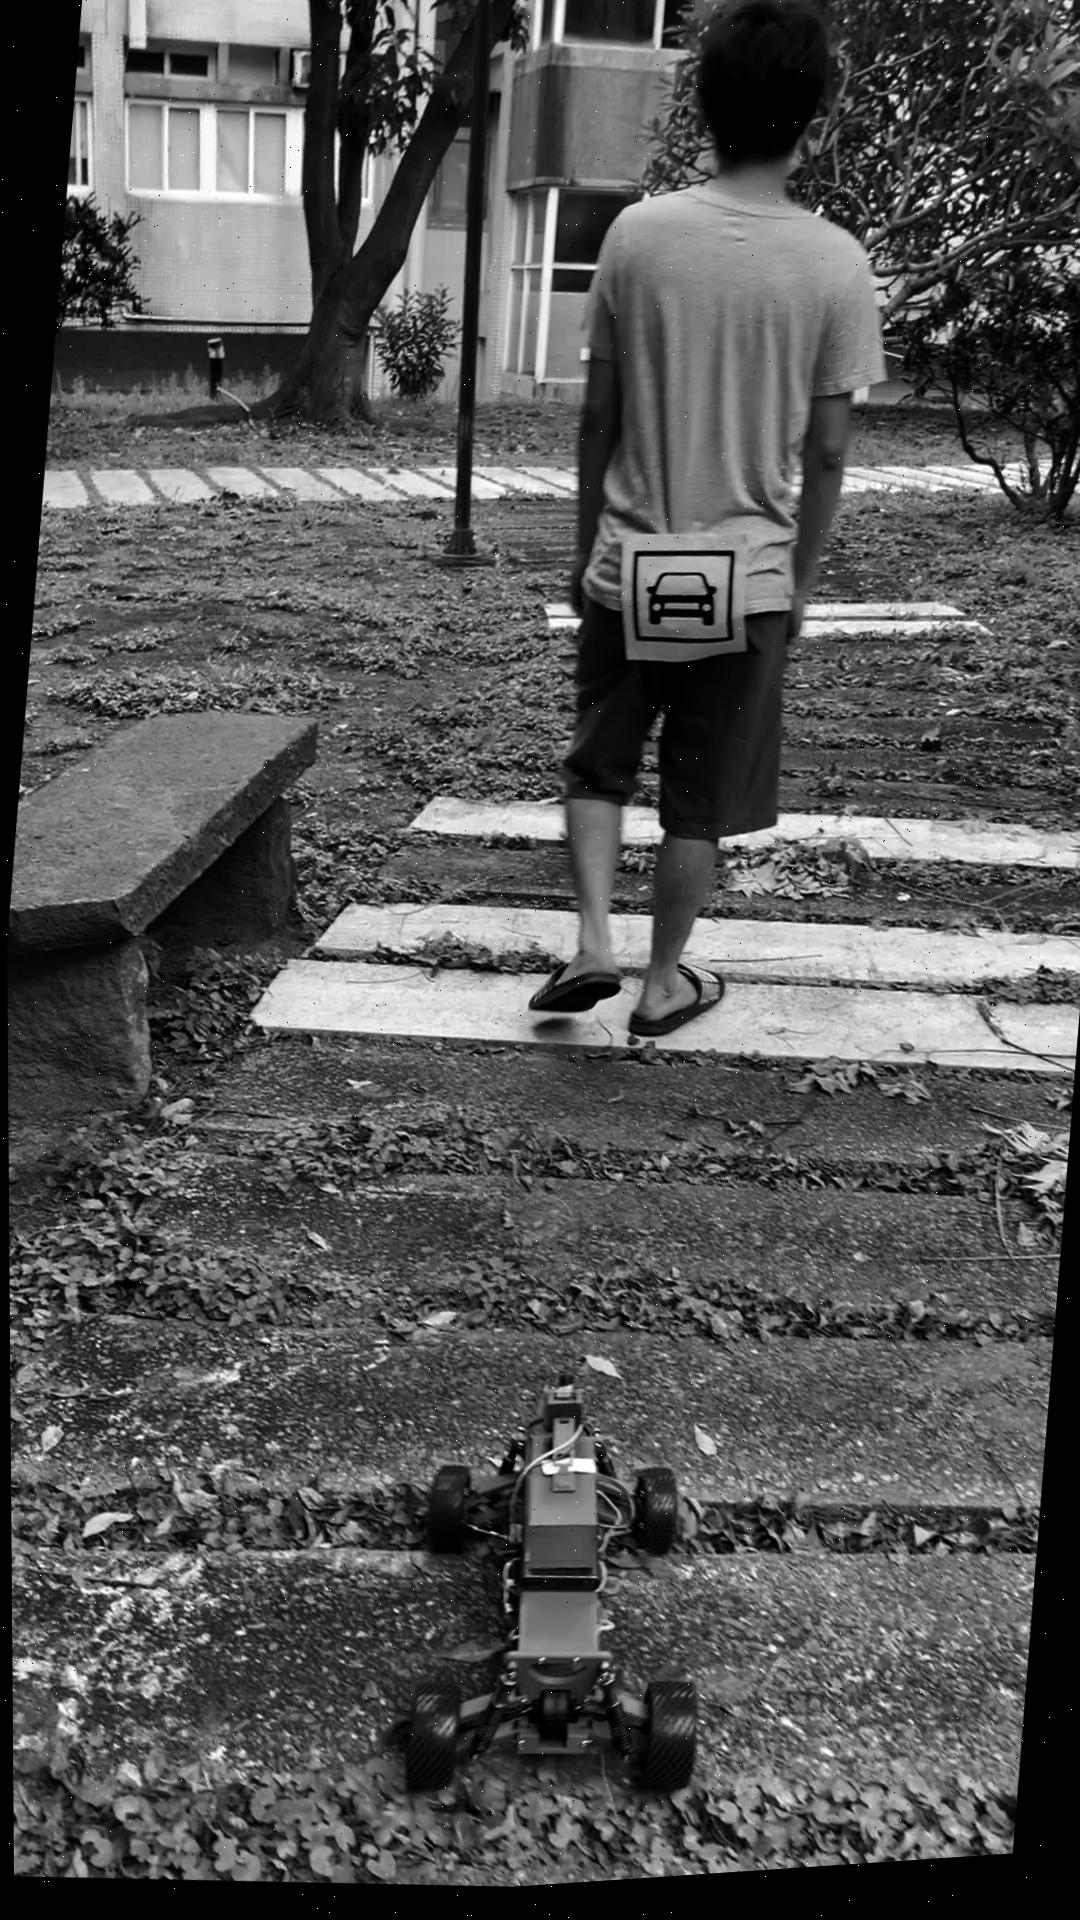car_img: (625, 550, 740, 661)
